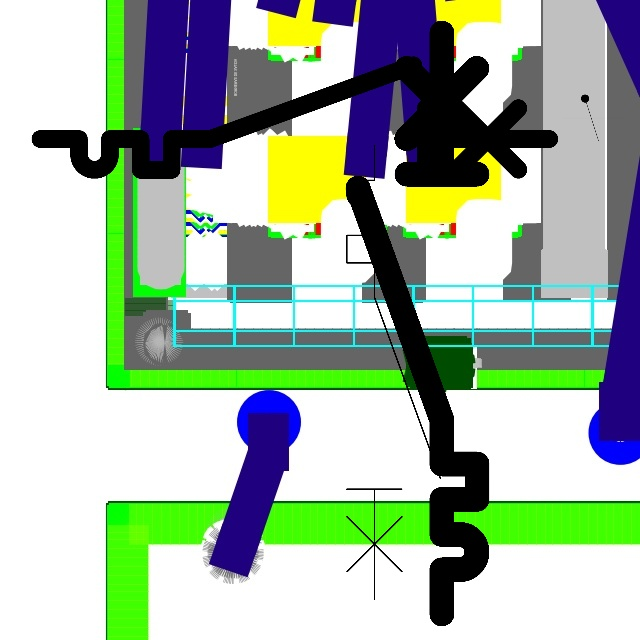interruptor_termomagnetico: (343, 18, 492, 629), (27, 52, 562, 183), (335, 134, 451, 610)
